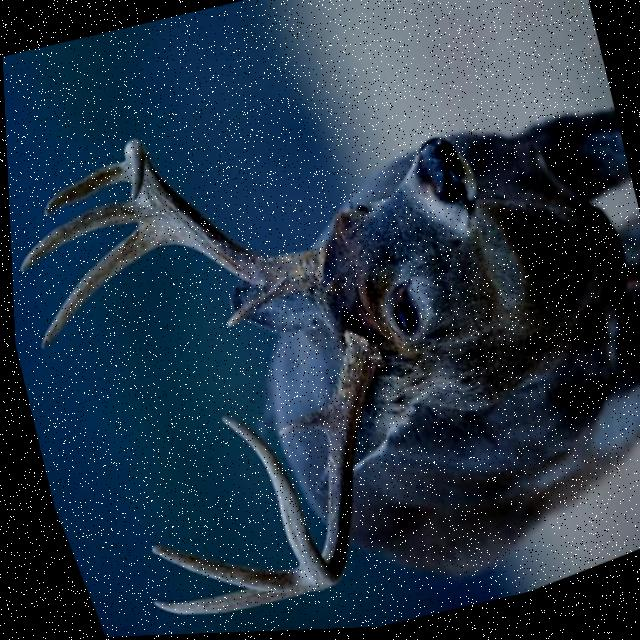L-F: (122, 140, 323, 297)
L-G1: (222, 284, 278, 330)
L-G2: (37, 225, 158, 350)
L-G3: (16, 202, 137, 273)
L-G4: (40, 162, 128, 217)
R-F: (215, 332, 384, 594)
R-G1: (273, 409, 325, 438)
R-G3: (144, 544, 304, 596)
